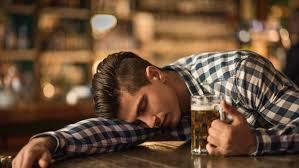Drunk: (105, 69, 181, 131)
